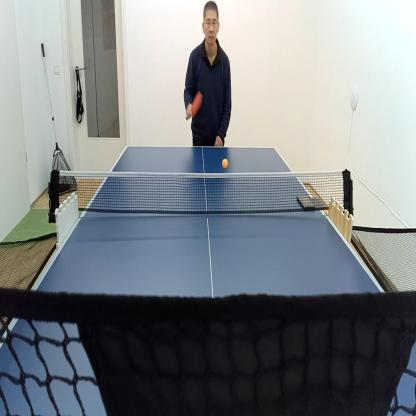Ball: (221, 156, 230, 170)
